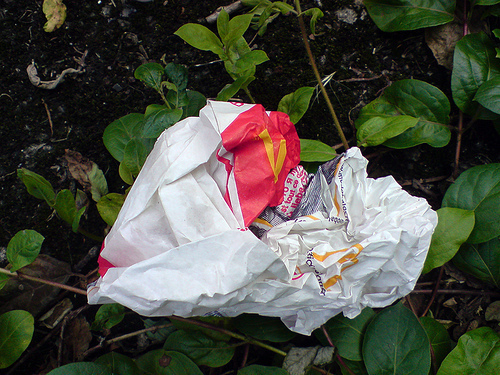litter: (86, 96, 439, 338)
